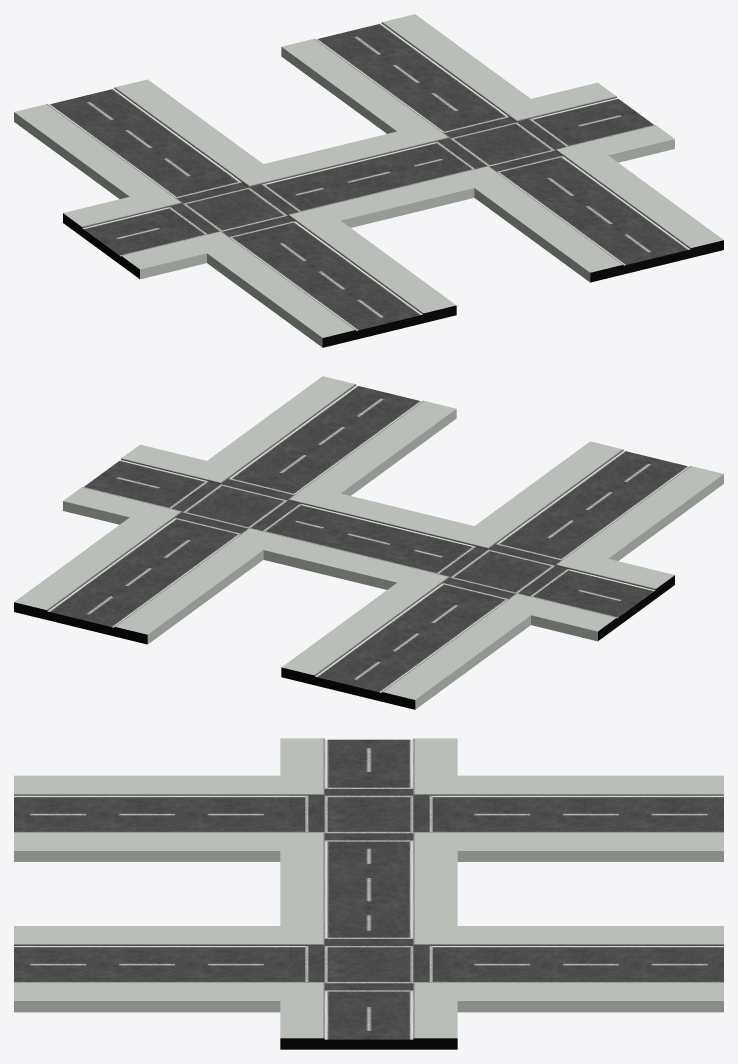
Rendered from doubleCross_high.fbx.
The picture shows the model from 3 angles, top to bottom: view 1: azimuth 30°, elevation 25°; view 2: azimuth 150°, elevation 25°; view 3: azimuth 270°, elevation 25°; orthographic projection. The views are drawn at different scales.
Visible parts, largest first — view 1: materialH150, materialA150, materialE150, materialC150, materialB150, materialF150, materialD150, materialG150; view 2: materialH150, materialA150, materialE150, materialC150, materialB150, materialF150, materialD150, materialG150; view 3: materialH150, materialA150, materialE150, materialC150, materialF150, materialD150, materialG150, materialB150.
Part boxes in pixels (bbox=[...]): materialH150: bbox=[14, 14, 723, 347]; materialA150: bbox=[49, 23, 690, 330]; materialE150: bbox=[155, 111, 580, 242]; materialC150: bbox=[170, 117, 565, 236]; materialB150: bbox=[63, 213, 723, 347]; materialF150: bbox=[46, 22, 690, 329]; materialD150: bbox=[168, 116, 568, 237]; materialG150: bbox=[82, 22, 690, 314]; materialH150: bbox=[14, 376, 723, 709]; materialA150: bbox=[47, 385, 688, 692]; materialE150: bbox=[157, 473, 582, 604]; materialC150: bbox=[172, 479, 567, 598]; materialB150: bbox=[14, 575, 674, 709]; materialF150: bbox=[47, 384, 691, 691]; materialD150: bbox=[169, 478, 569, 599]; materialG150: bbox=[47, 384, 655, 676]; materialH150: bbox=[14, 738, 723, 1038]; materialA150: bbox=[14, 739, 723, 1039]; materialE150: bbox=[288, 780, 449, 998]; materialC150: bbox=[308, 789, 429, 990]; materialF150: bbox=[14, 738, 723, 1038]; materialD150: bbox=[305, 787, 432, 991]; materialG150: bbox=[14, 794, 723, 945]; materialB150: bbox=[280, 1038, 457, 1049].
Size of the model in its own units: 102 by 1.8 by 102.
